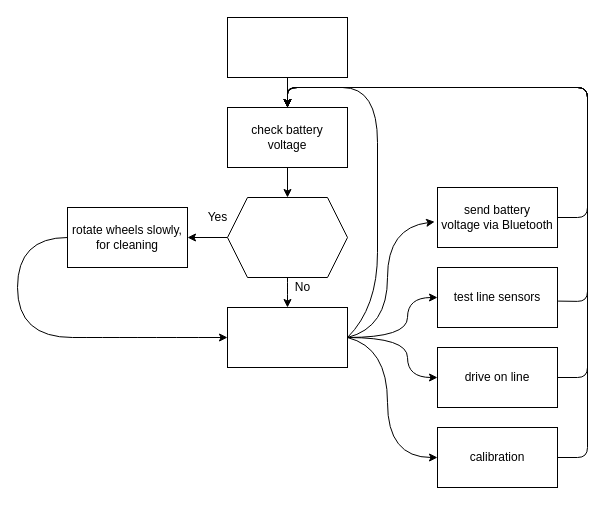
The diagram is 613 pixels wide and 505 high, and some of its shapes have lost their labels. Each missing label, with the box of its shape:
button pressed?: (226, 196, 348, 278)
check for commands from Bluetooth: (226, 306, 348, 368)
START: (226, 16, 348, 78)
